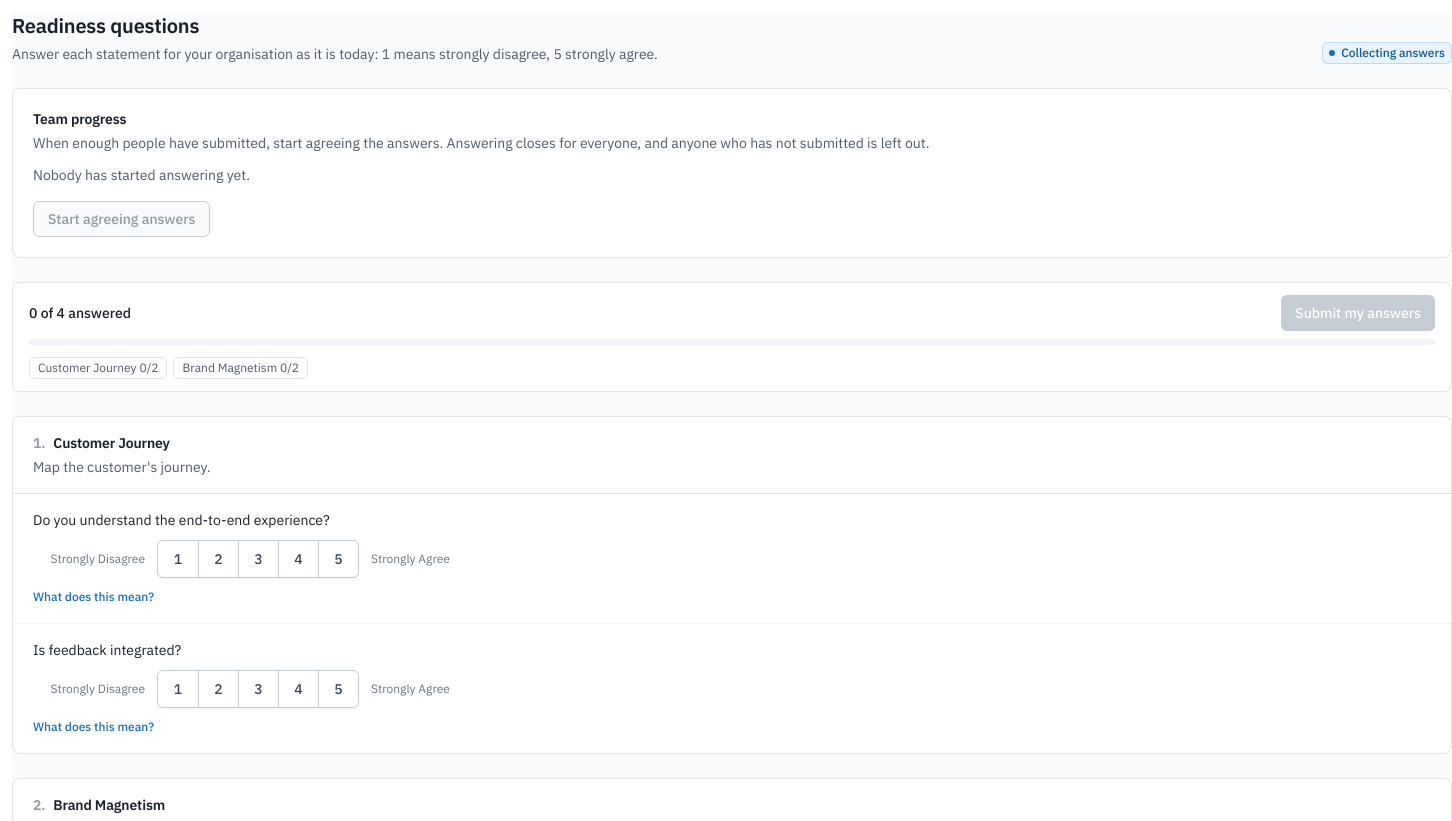
Test case: QuestionnairePage › saves each answer as it is chosen and shows it saved
Click the 1st radio button labelled "4" at coordinates (298, 559), box x1=278 y1=541 x2=318 y2=577
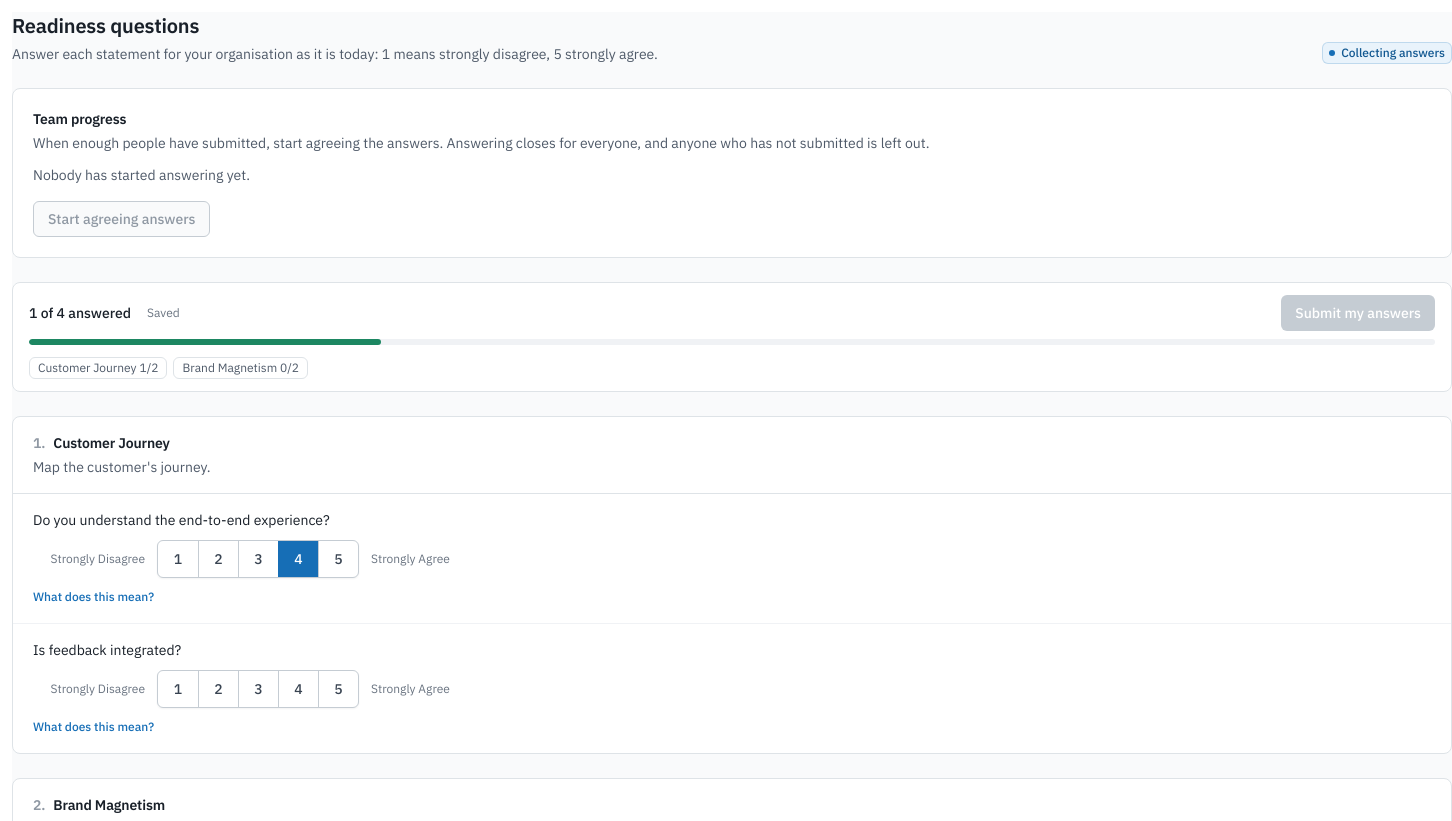
Expected: the button "Submit my answers" is disabled, x1=1281 y1=295 x2=1435 y2=331
Now the text "Saved" is shown, box x1=147 y1=305 x2=180 y2=321
Now the text "1 of 4 answered" is shown, box x1=29 y1=303 x2=131 y2=323
